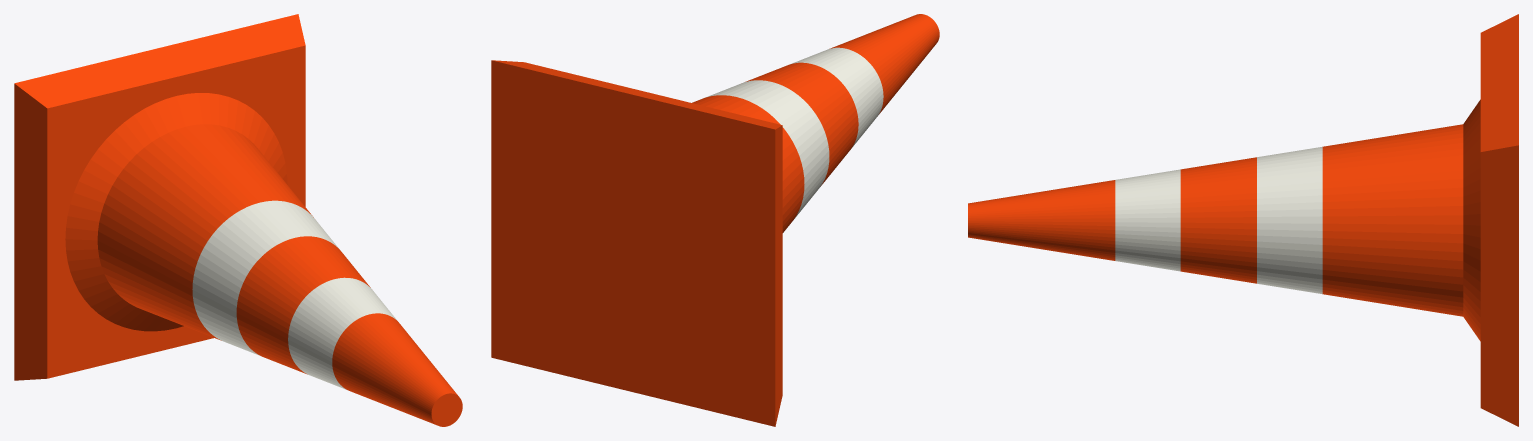
Rendered from fsae_large_orange_dual_white.obj.
3 views of the same model, side by side, from view 1: azimuth 30°, elevation 25°; view 2: azimuth 150°, elevation 25°; view 3: azimuth 270°, elevation 25° (orthographic). The views are drawn at different scales.
Bounding box in the file's own units: 28.5 × 28.5 × 50.5.
Materials: 2 (2 with a texture image).
